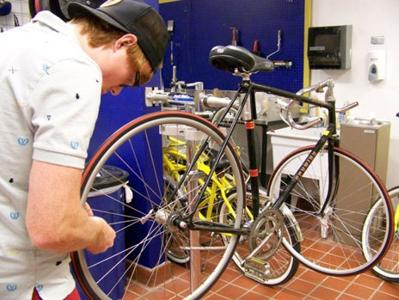person: (1, 2, 172, 300)
